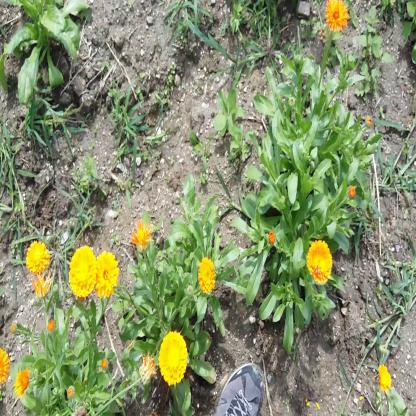marigold: (158, 332, 187, 386), (68, 248, 94, 300), (306, 239, 332, 281), (92, 255, 116, 295), (26, 242, 48, 274), (198, 260, 214, 296), (328, 2, 347, 26)
